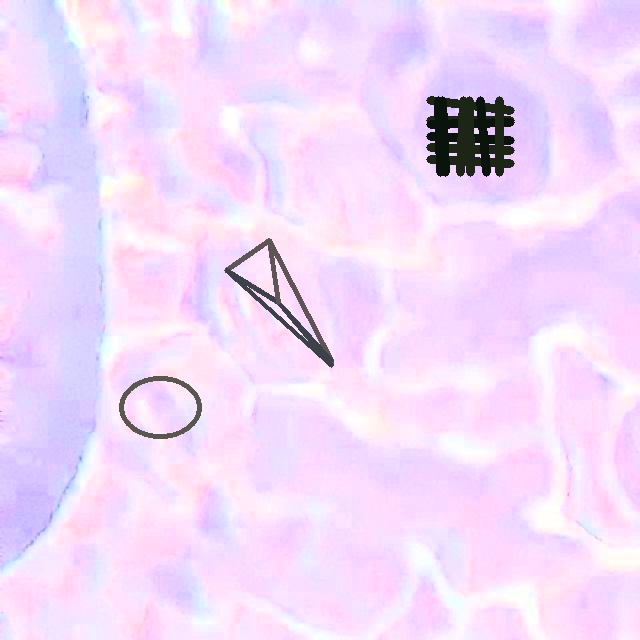close: (426, 97, 513, 176)
open: (224, 238, 333, 367), (119, 375, 202, 439)
